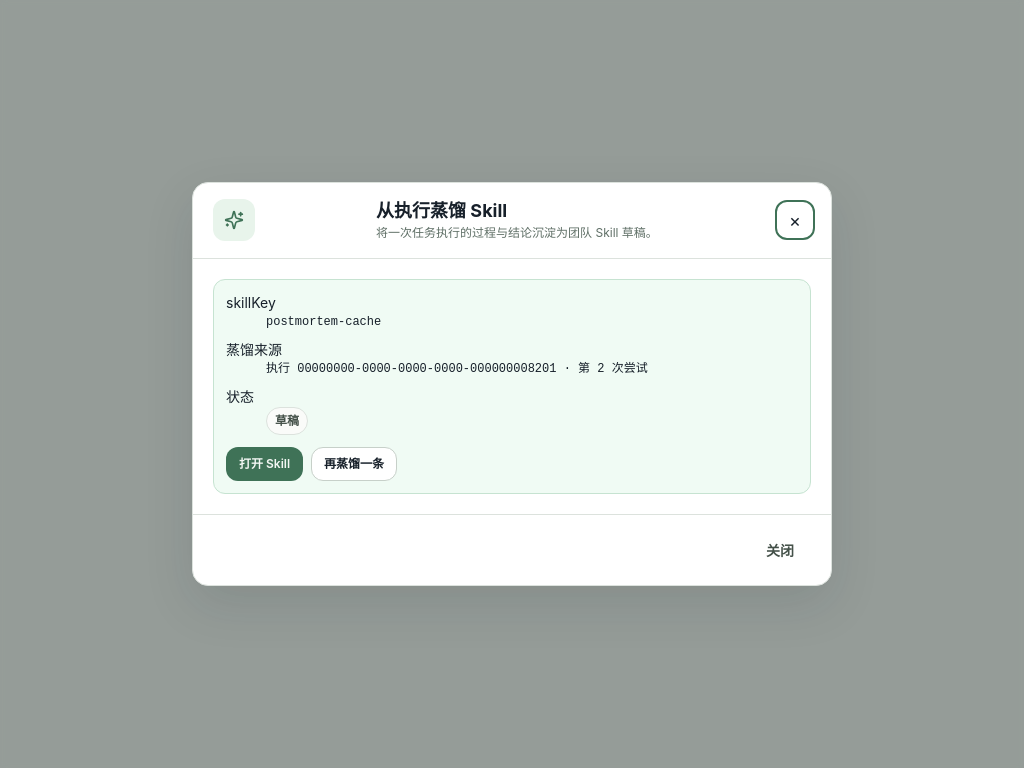
Scenario: SkillDistillationDialog › returns to the form on “再蒸馏一条”
Click the button "再蒸馏一条" at (354, 464), box left=311, top=447, right=397, bottom=481
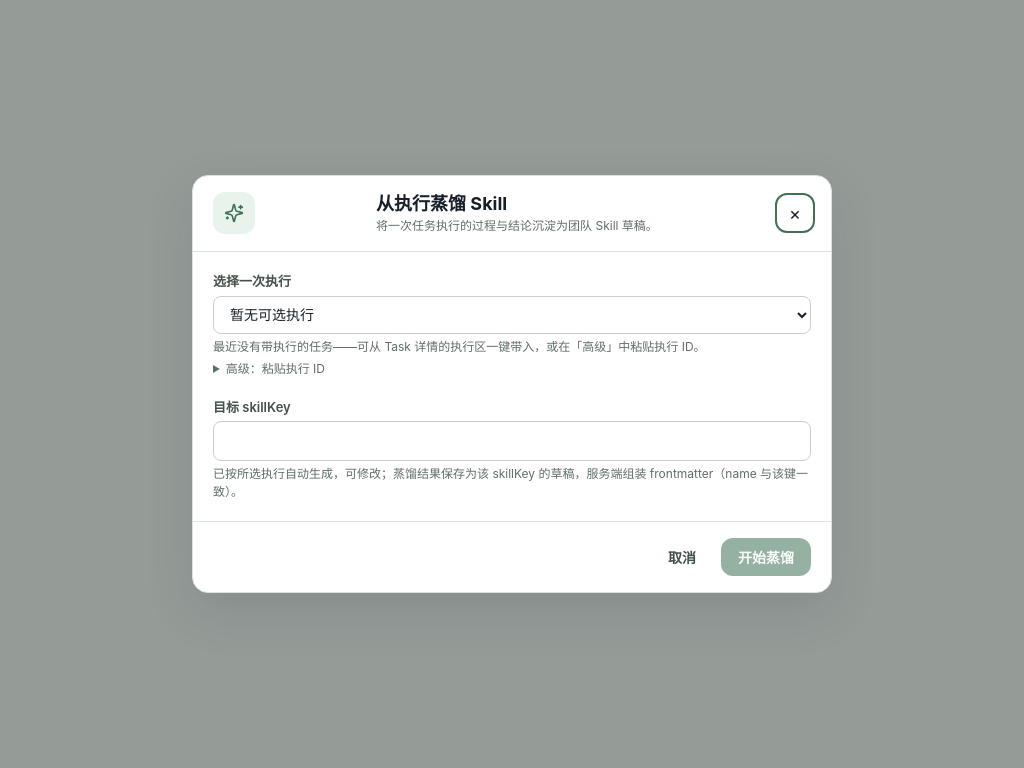
Expected: the element showing "高级：粘贴执行 ID" is shown, left=226, top=361, right=325, bottom=376
